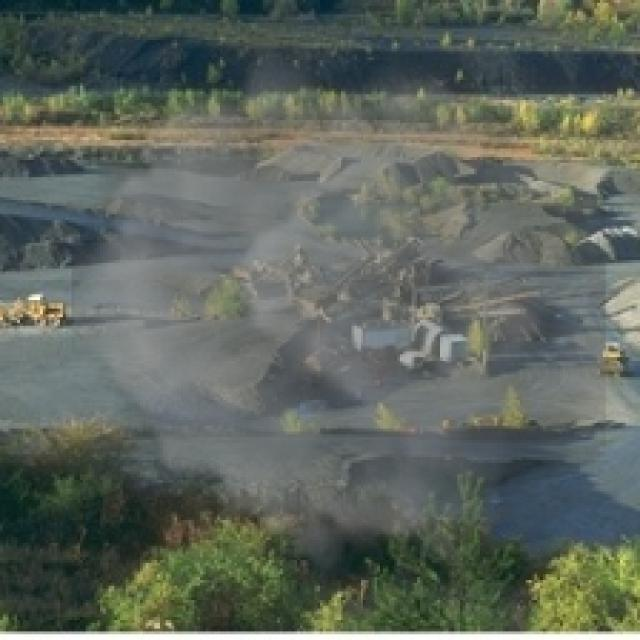Smoke: (71, 28, 606, 594)
